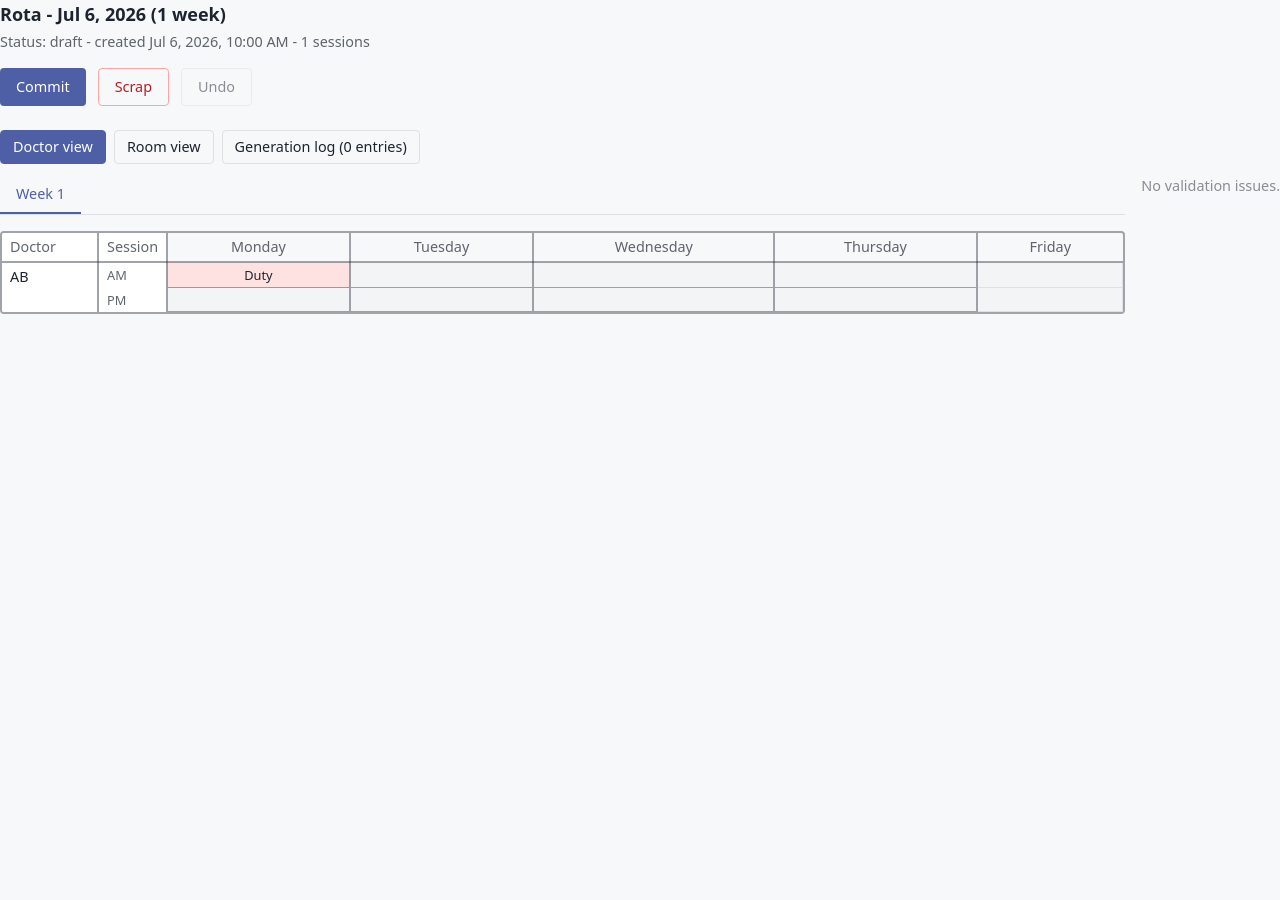
Test: RotaDetailPage › saving the popover shows the Applied toast and enables Undo
Click the button "Duty" at coordinates (258, 275), box [244,266,273,284]
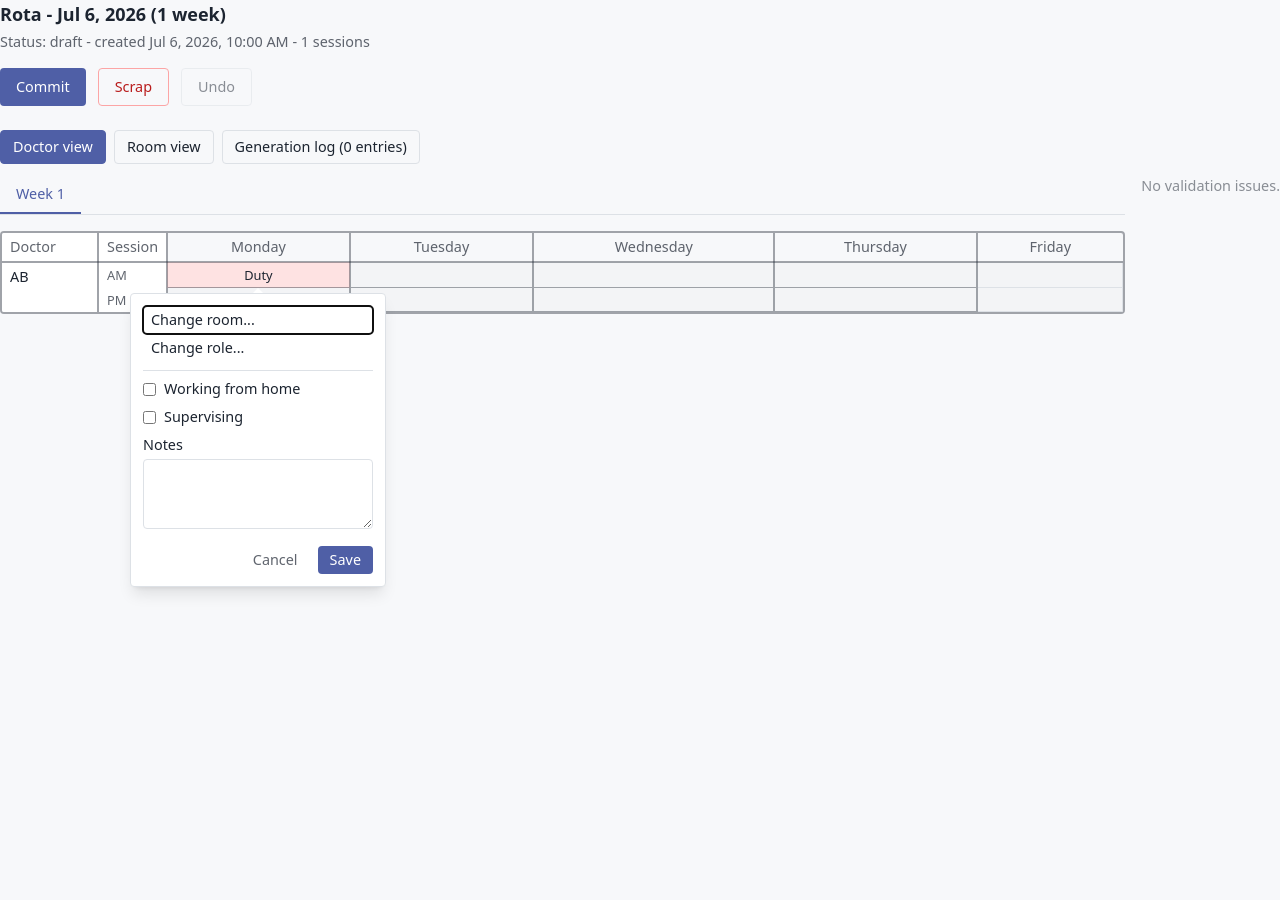
Click the checkbox labelled "Working from home" at coordinates (150, 389), box [143,382,156,396]
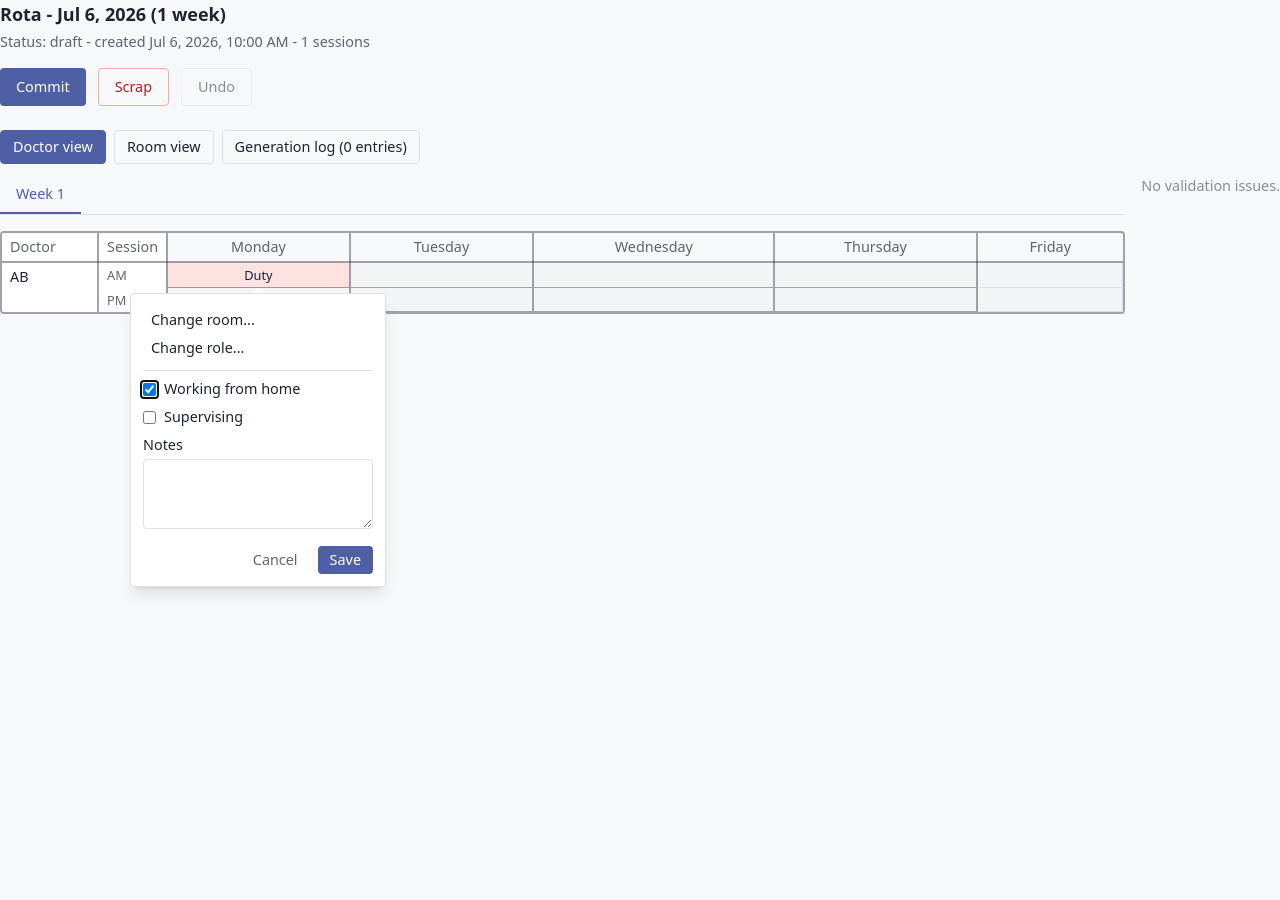
Click the button "Save" at coordinates (345, 560), box [318,546,373,574]
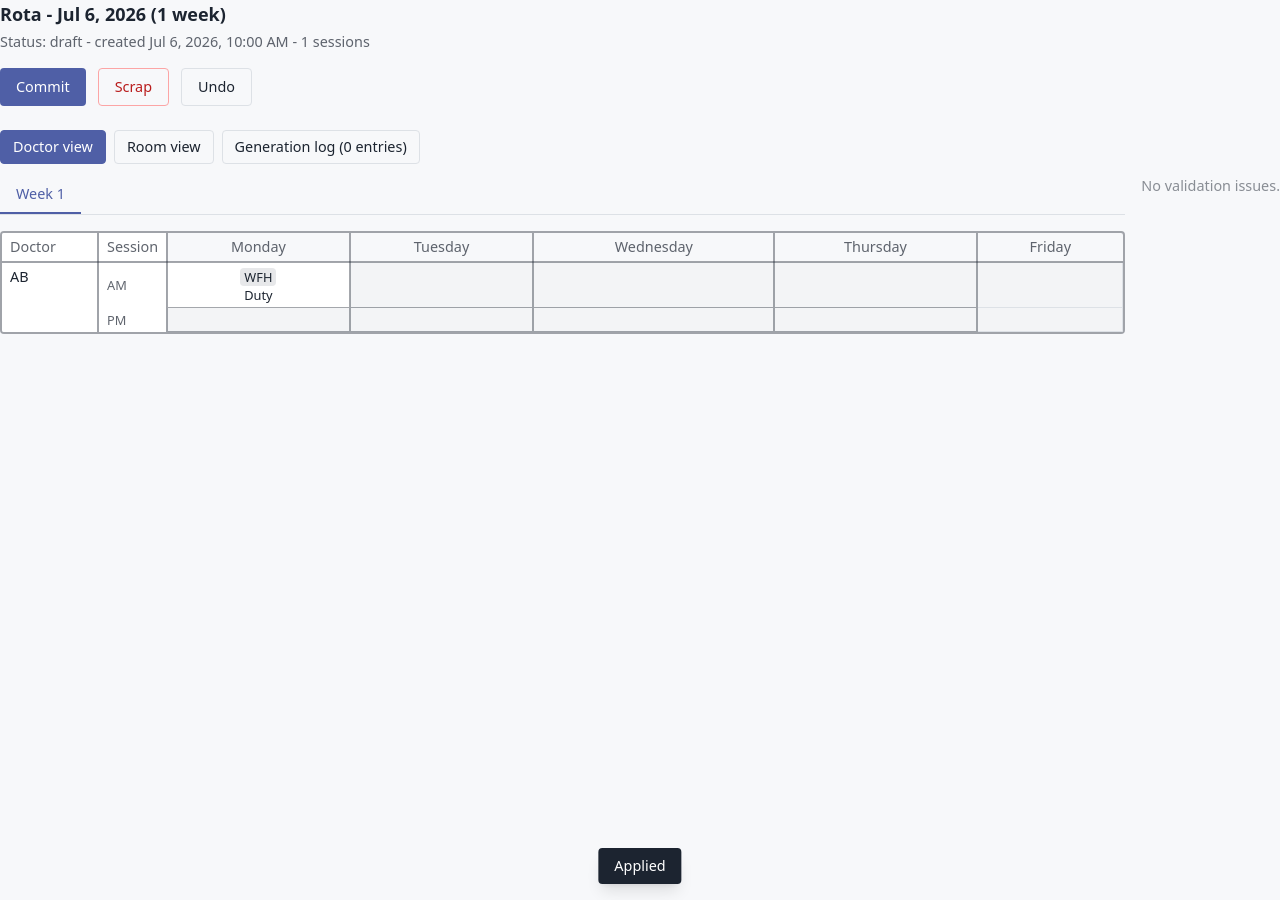
Result: the text "Applied" is shown at [598,848,682,884]
Result: the button "Undo" is enabled at [181,68,252,106]
